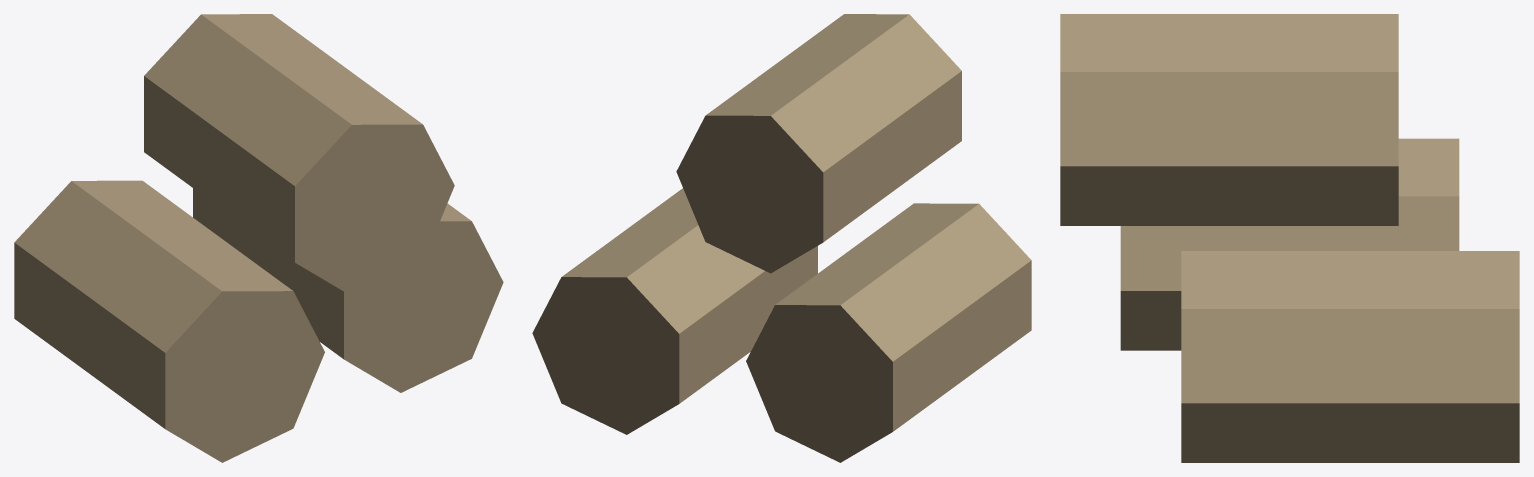
File: sack_pile.glb
3 views of the same model, side by side, from view 1: azimuth 30°, elevation 25°; view 2: azimuth 150°, elevation 25°; view 3: azimuth 270°, elevation 25° (orthographic). The views are drawn at different scales.
Parts seen in each view (by area): view 1: sack_pile; view 2: sack_pile; view 3: sack_pile.
Boxes of the visible parts, left/top/right/bottom form: sack_pile: left=14, top=14, right=503, bottom=462; sack_pile: left=532, top=14, right=1031, bottom=462; sack_pile: left=1060, top=14, right=1519, bottom=462.
Bounding box in the file's own units: 0.7822 × 0.681 × 0.76.
